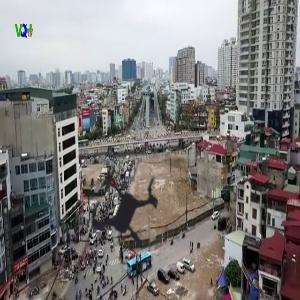drone: (45, 127, 213, 295)
